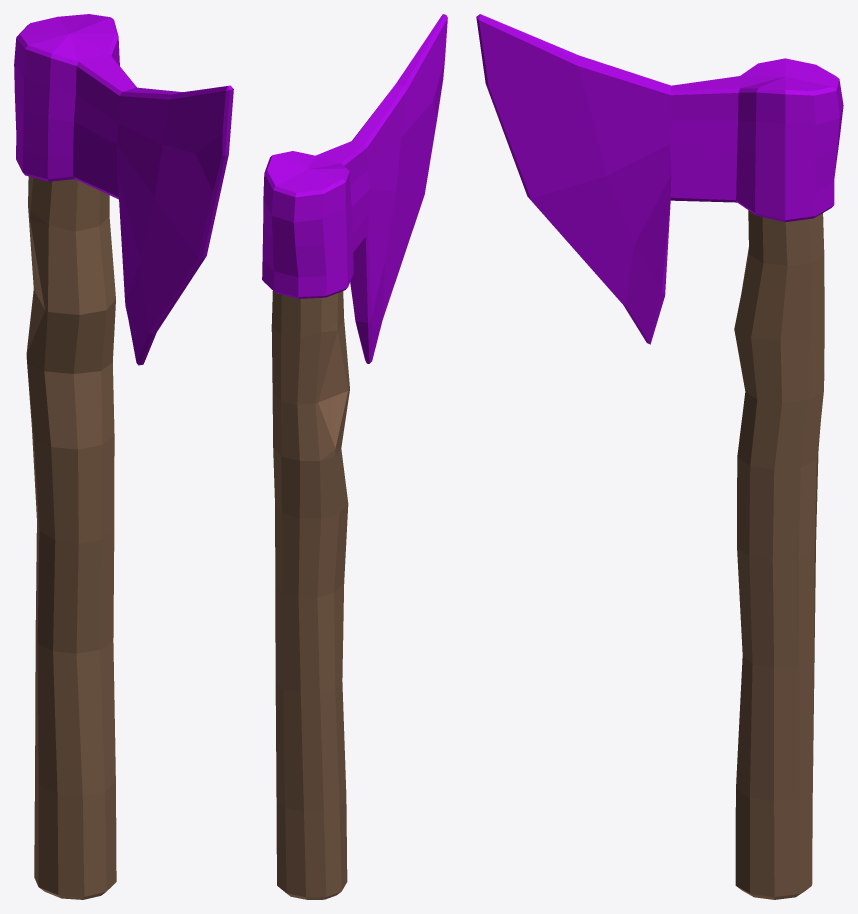
The model's file is Axe_02_Purple.fbx.
3 renders of one model, left to right at view 1: azimuth 30°, elevation 25°; view 2: azimuth 150°, elevation 25°; view 3: azimuth 270°, elevation 25°, orthographic. The views are drawn at different scales.
Parts seen in each view (by area): view 1: Axe_Purple; view 2: Axe_Purple; view 3: Axe_Purple.
Part boxes in pixels (x1,y1,x2,y2): Axe_Purple: [14, 14, 233, 899]; Axe_Purple: [262, 14, 447, 899]; Axe_Purple: [476, 14, 843, 899].
Bounding box in the file's own units: 13.94 × 130 × 49.54.
